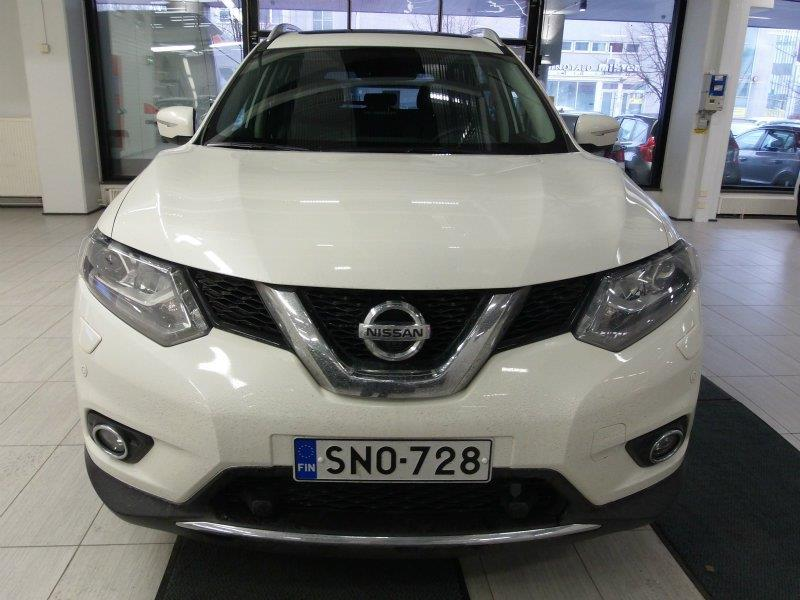license: (295, 442, 492, 486)
